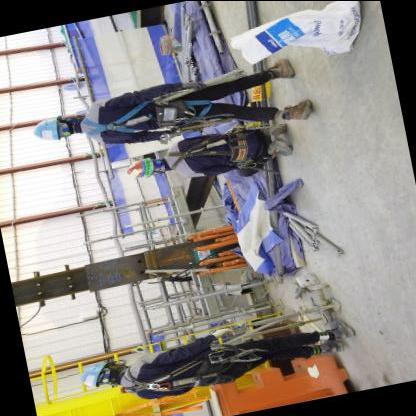Helmet: (119, 150, 163, 187), (29, 113, 68, 152), (74, 357, 116, 391)
safety-shoe: (275, 91, 326, 131), (260, 51, 300, 88), (320, 311, 363, 345), (261, 132, 300, 165)
